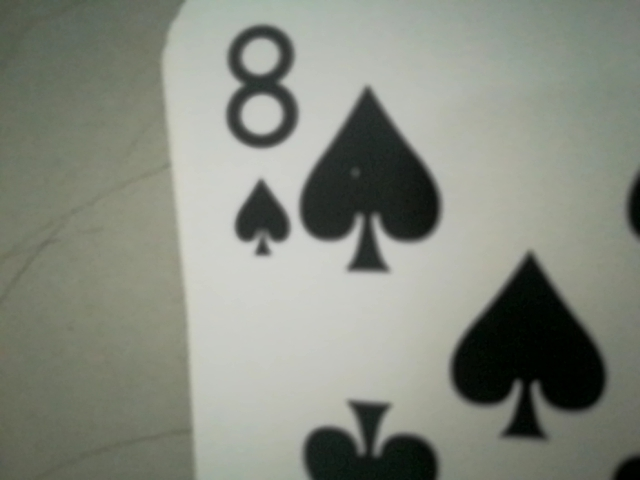ht 8: (200, 0, 323, 281)
